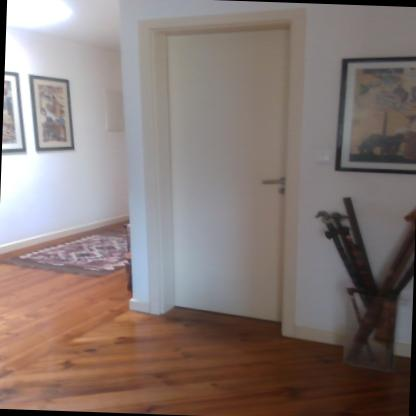closed: (119, 11, 311, 342)
